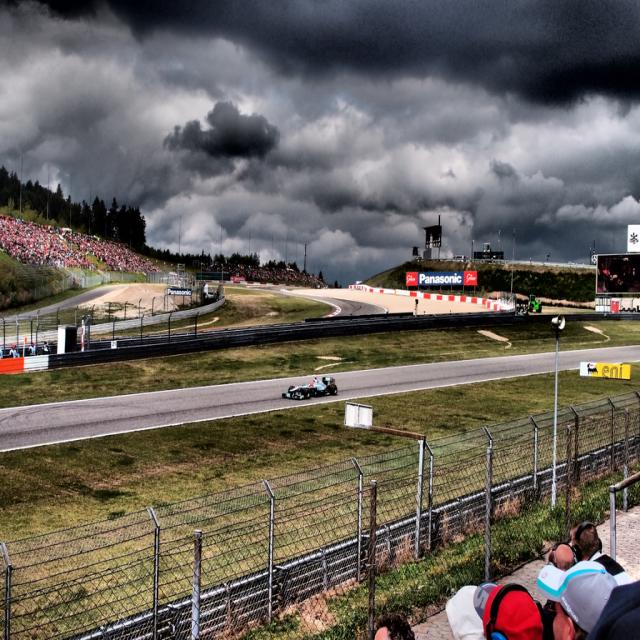car: (283, 374, 337, 398)
